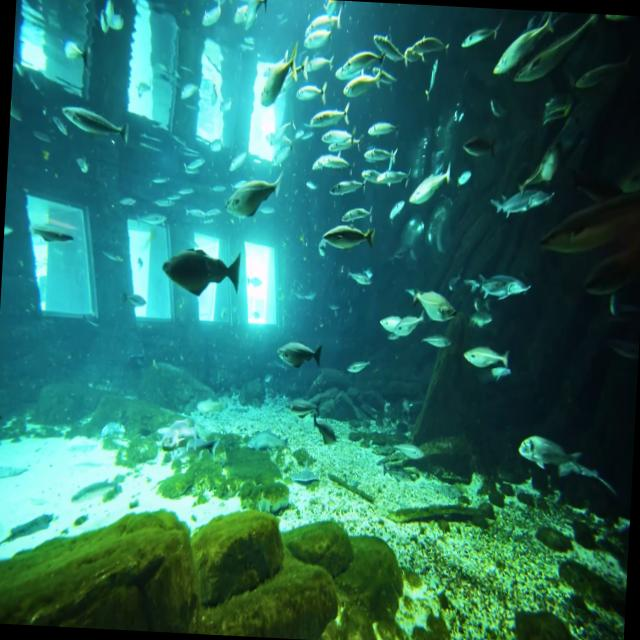fish: (510, 10, 606, 96), (489, 9, 559, 77), (158, 248, 242, 298), (488, 178, 560, 224), (221, 172, 285, 222), (60, 102, 131, 146), (515, 432, 586, 471), (262, 41, 298, 112), (404, 280, 458, 326), (462, 270, 532, 305), (408, 157, 454, 206), (334, 50, 386, 87), (275, 336, 324, 374), (457, 22, 502, 58), (308, 102, 354, 136), (322, 224, 377, 252), (464, 344, 512, 372), (364, 142, 400, 164)
